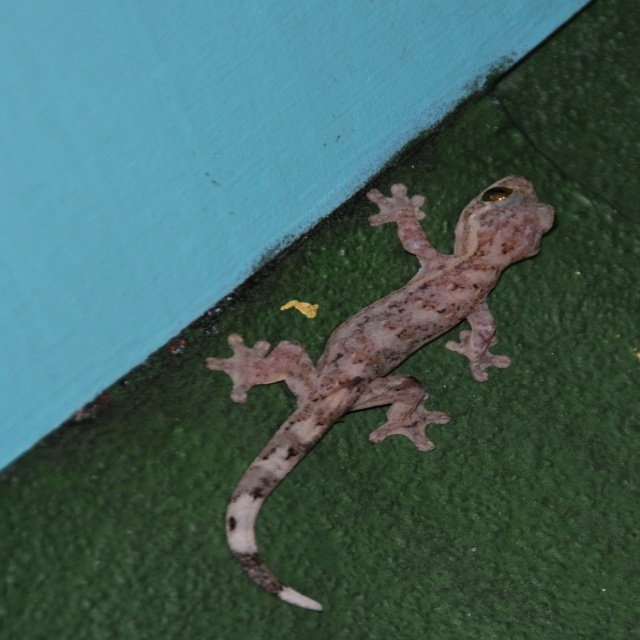Lizard: (173, 154, 539, 625)
